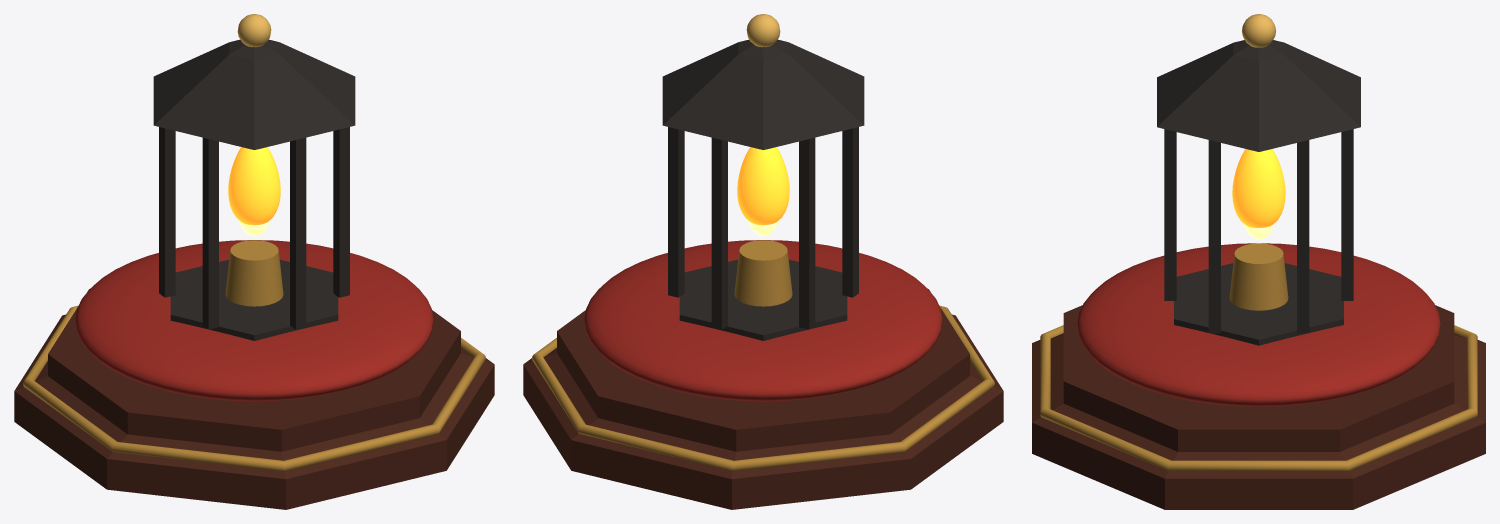
The model's file is mulbul-ember.glb.
The picture shows the model from 3 angles, left to right: view 1: azimuth 30°, elevation 25°; view 2: azimuth 150°, elevation 25°; view 3: azimuth 270°, elevation 25°; orthographic projection.
Visible parts, largest first — view 1: mulbul-ember; view 2: mulbul-ember; view 3: mulbul-ember.
Boxes of the visible parts, x1=… form: mulbul-ember: x1=14, y1=14, x2=494, y2=509; mulbul-ember: x1=523, y1=14, x2=1003, y2=509; mulbul-ember: x1=1032, y1=14, x2=1485, y2=509.
Bounding box in the file's own units: 0.9239 × 0.895 × 0.9239.
